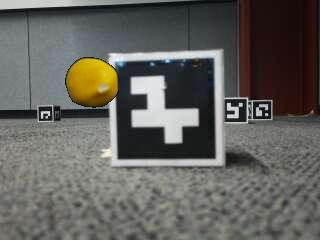lemon: (68, 59, 119, 108)
